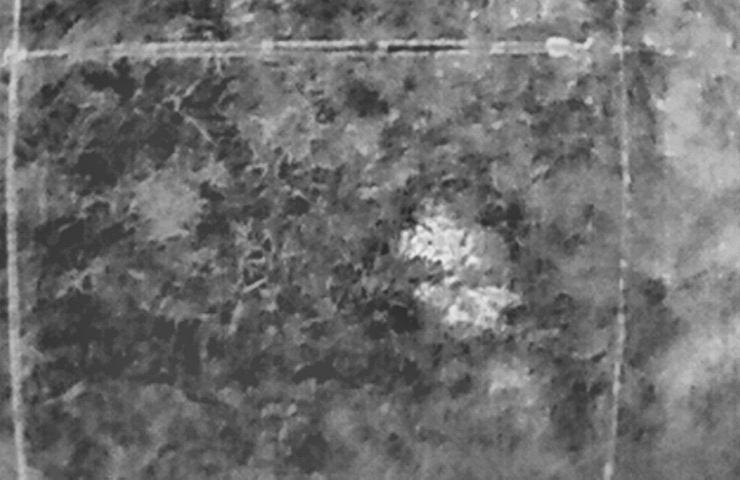landmines: (398, 213, 479, 269)
